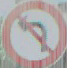Don't turn left: (3, 3, 55, 63)
